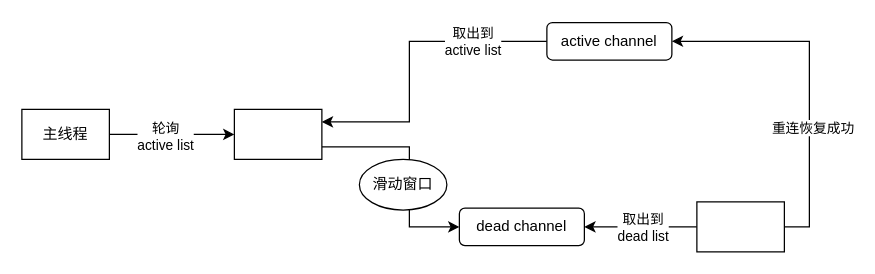
Some shapes in this 875 by 274 pixel diagram are drawn without their labels. The shapes that lost their labels are listed below. From the top down, each one's centre as x and y in pixels, then its label:
At (x=277, y=133): "receiver".
At (x=740, y=226): "reconnect".
